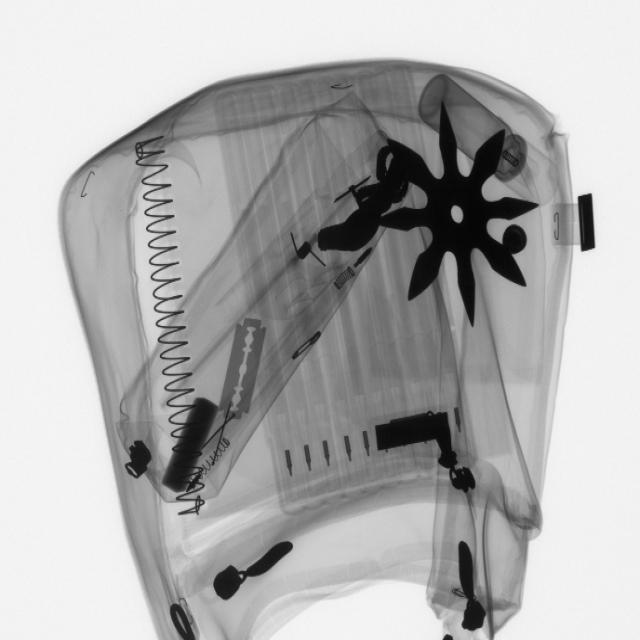BLADE: (219, 313, 273, 427)
SHURIKEN: (369, 104, 539, 327)
